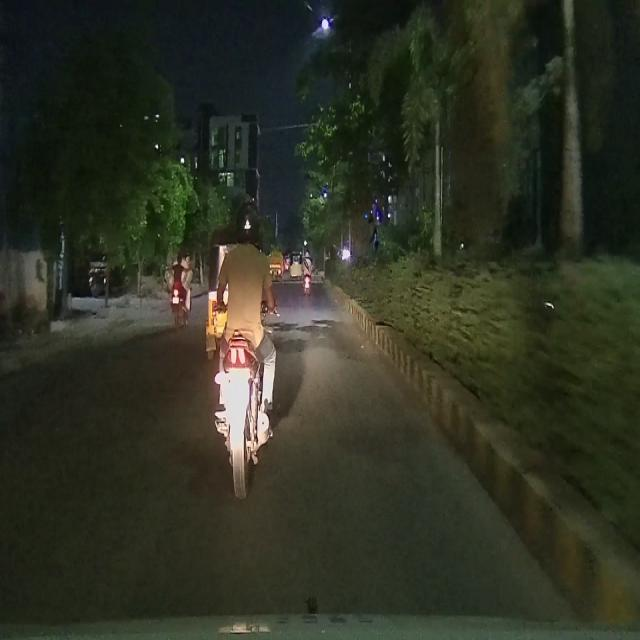motorcycle ahead at: (202, 330, 273, 500)
